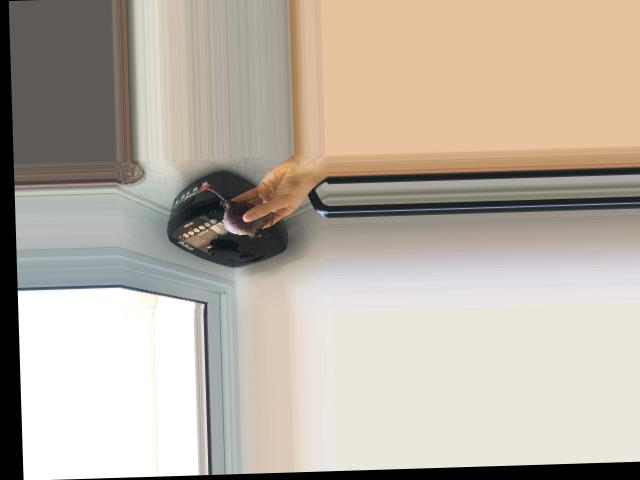beet: (207, 185, 272, 239)
